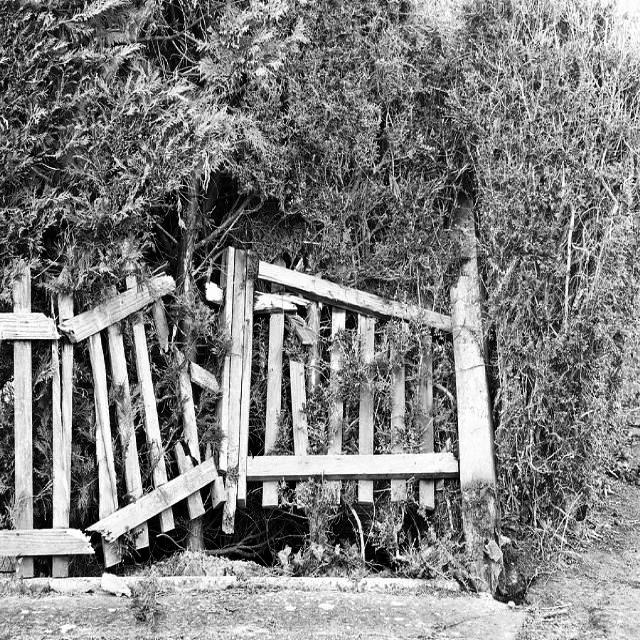anomaly-fence: (52, 247, 485, 576)
